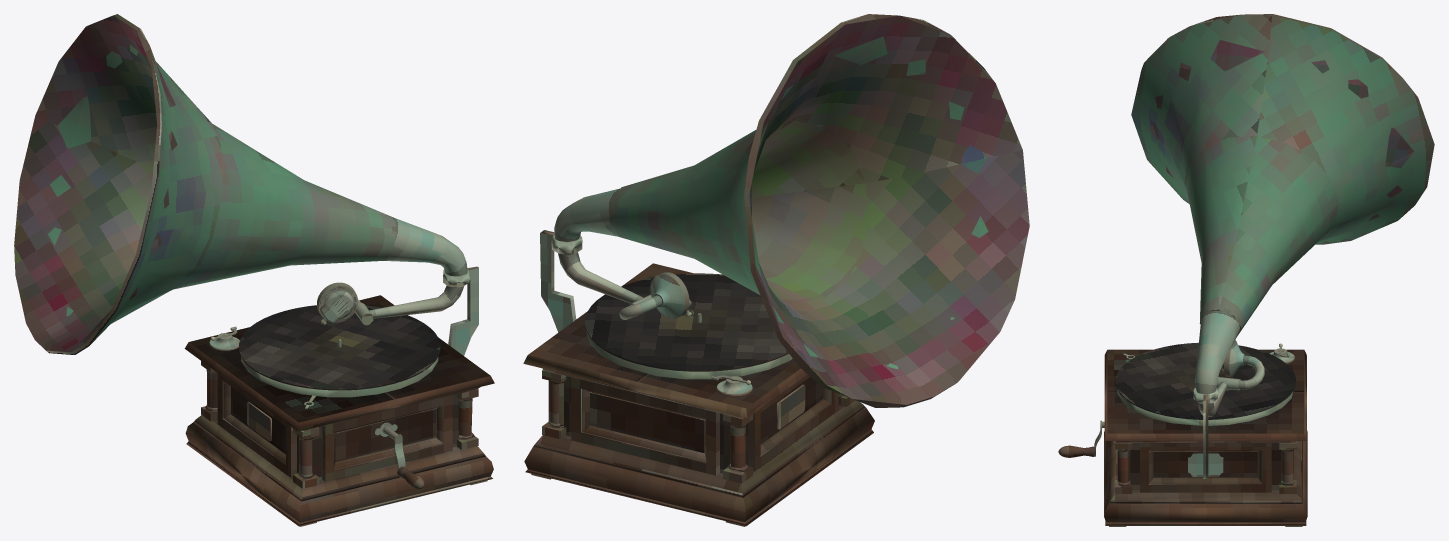
File: vintage_gramophone.glb
3 renders of one model, left to right at view 1: azimuth 30°, elevation 25°; view 2: azimuth 150°, elevation 25°; view 3: azimuth 270°, elevation 25°, orthographic. The views are drawn at different scales.
Visible parts, largest first — view 1: 01_low.001, 10_low.001, 08_low.001, 02_low.001, 04_low.001, 05_low.001, 15_low.001, 18_low.001, 07_low.001, 16_low.001, 11_low.001, 06_low.001 (+2 smaller); view 2: 01_low.001, 08_low.001, 10_low.001, 04_low.001, 02_low.001, 05_low.001, 15_low.001, 18_low.001, 11_low.001, 07_low.001, 16_low.001, 21_low.001 (+2 smaller); view 3: 01_low.001, 08_low.001, 10_low.001, 02_low.001, 04_low.001, 05_low.001, 15_low.001, 11_low.001, 07_low.001, 18_low.001, 19_low.001, 06_low.001 (+3 smaller).
Boxes of the visible parts, x1,y1,x2,y2 form: 01_low.001: (14, 14, 395, 354); 10_low.001: (239, 305, 440, 390); 08_low.001: (185, 415, 493, 526); 02_low.001: (184, 295, 494, 431); 04_low.001: (217, 373, 452, 481); 05_low.001: (231, 386, 458, 479); 15_low.001: (385, 218, 467, 287); 18_low.001: (443, 266, 478, 355); 07_low.001: (205, 369, 474, 478); 16_low.001: (355, 285, 463, 325); 11_low.001: (241, 357, 438, 397); 06_low.001: (201, 361, 478, 488); 01_low.001: (609, 14, 1029, 407); 08_low.001: (524, 400, 874, 526); 10_low.001: (585, 273, 788, 371); 04_low.001: (571, 374, 838, 475); 02_low.001: (523, 263, 807, 418); 05_low.001: (564, 376, 823, 473); 15_low.001: (554, 188, 621, 254); 18_low.001: (540, 230, 582, 332); 11_low.001: (586, 331, 792, 379); 07_low.001: (548, 380, 841, 472); 16_low.001: (558, 252, 651, 316); 21_low.001: (650, 272, 689, 318); 01_low.001: (1131, 14, 1434, 334); 08_low.001: (1104, 430, 1307, 525); 10_low.001: (1115, 342, 1295, 419); 02_low.001: (1104, 349, 1306, 440); 04_low.001: (1140, 443, 1271, 492); 05_low.001: (1130, 443, 1281, 490); 15_low.001: (1195, 308, 1240, 404); 11_low.001: (1117, 390, 1292, 425); 07_low.001: (1117, 449, 1294, 486); 18_low.001: (1193, 388, 1217, 478); 19_low.001: (1188, 453, 1223, 476); 06_low.001: (1115, 441, 1296, 493).
Size of the model in its own units: 0.7005 by 0.7392 by 0.6298.
1 material, 1 textured.
